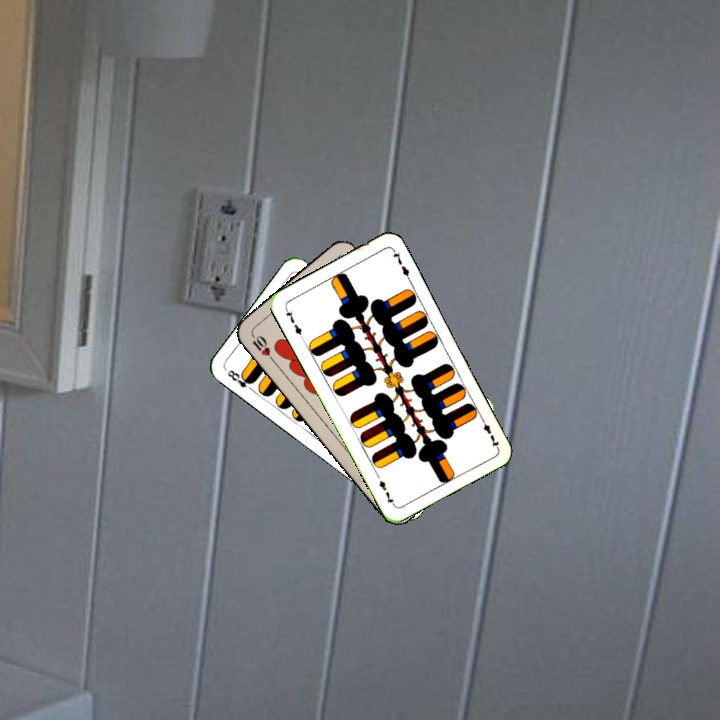E7: (476, 412, 502, 450), (281, 304, 306, 342)
E8: (223, 366, 257, 395)
H10: (248, 331, 277, 365)
